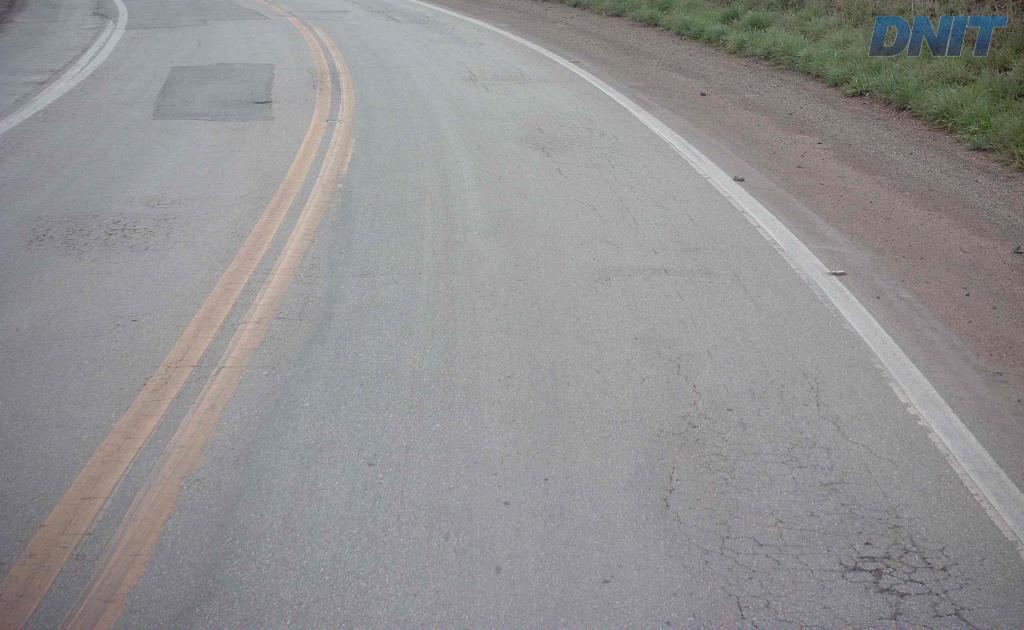crack: (838, 544, 967, 629)
